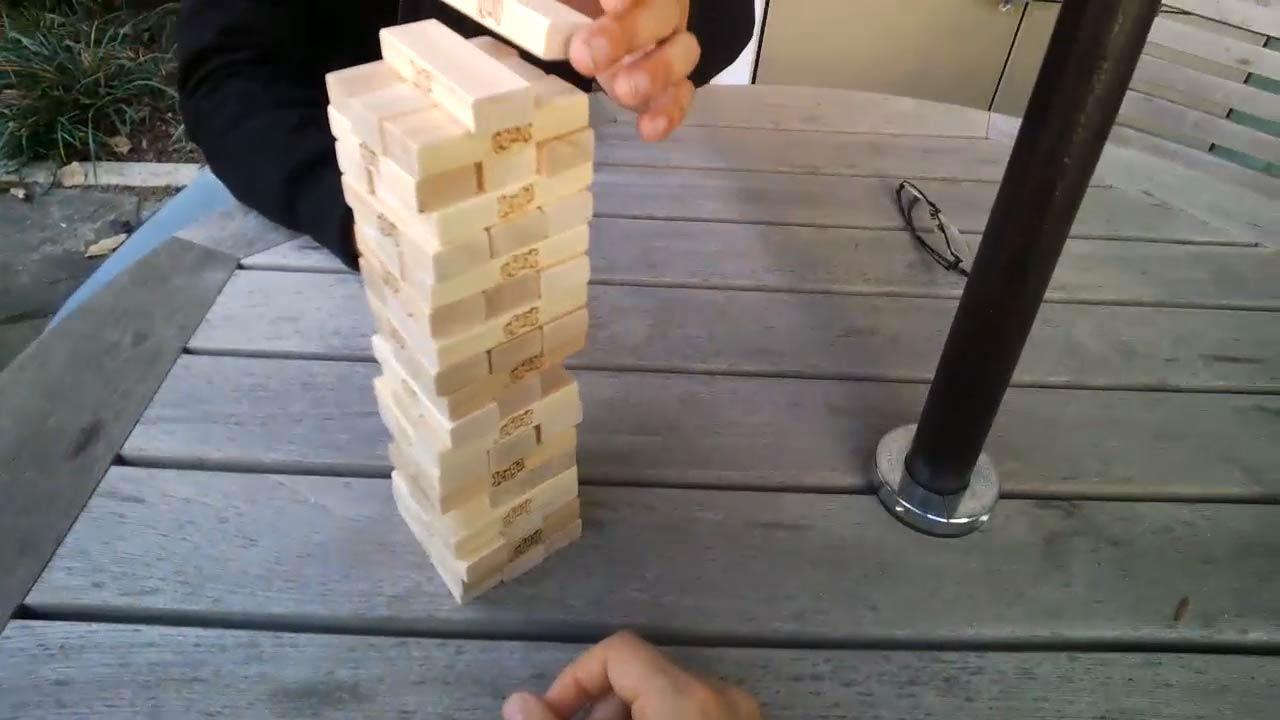hand: (495, 624, 776, 720), (570, 1, 708, 148)
